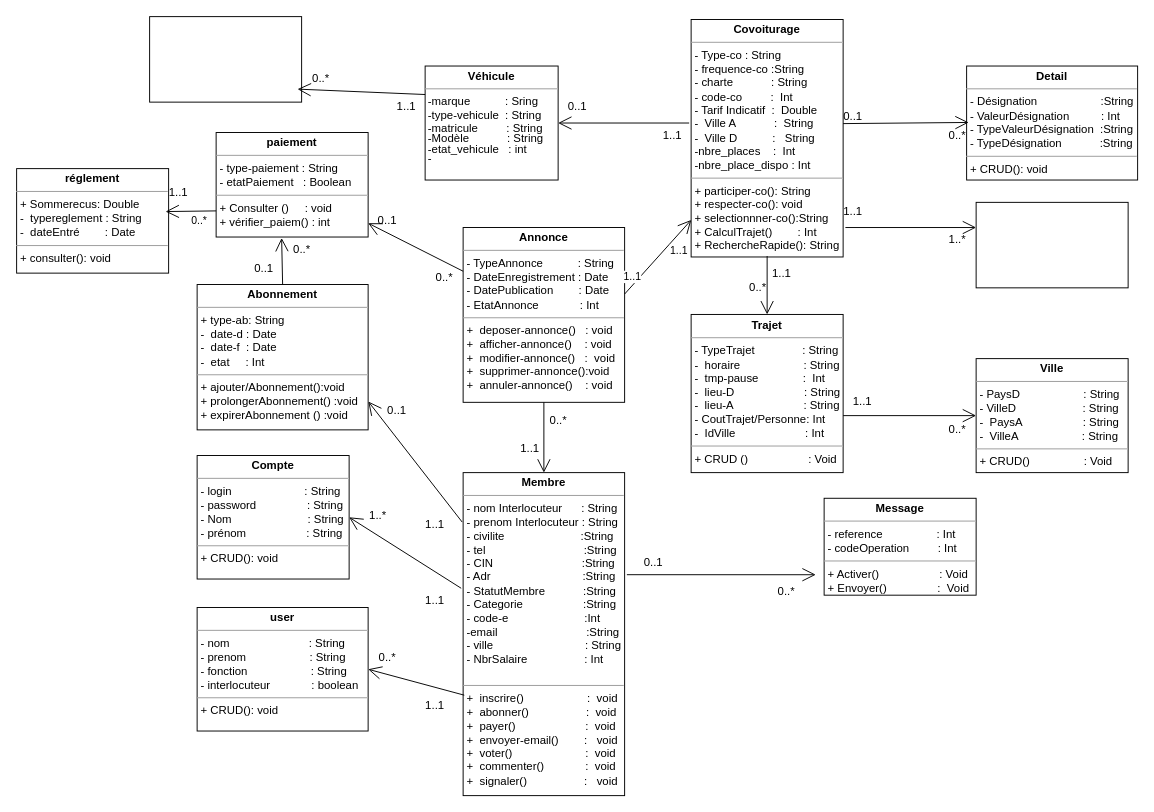
Some shapes in this 1154 by 812 pixel diagram are drawn without their labels. The box of each missing label's shape, as (x1, y1, x2, y2) in pixels:
Contenu - typecontenu : String - reference : String: (149, 16, 302, 102)
Date - Date d : Date - Date f : Date + CRUD(): void: (975, 201, 1128, 288)
